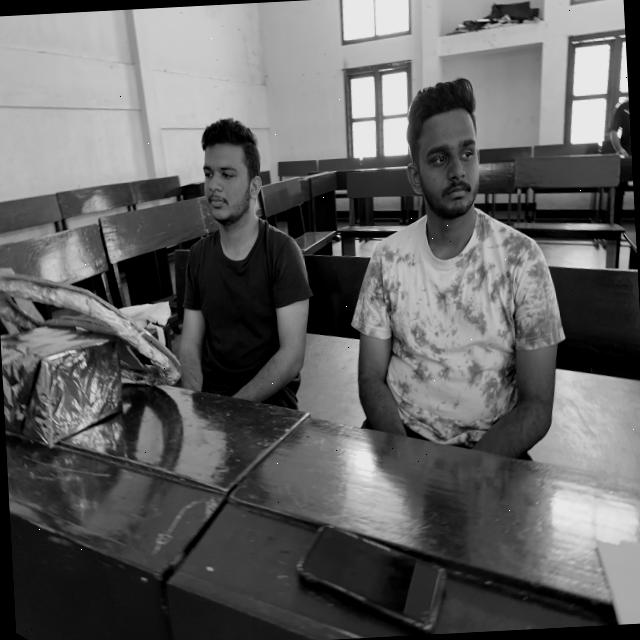no-seatbelt: (348, 216, 570, 494), (172, 223, 322, 430)
